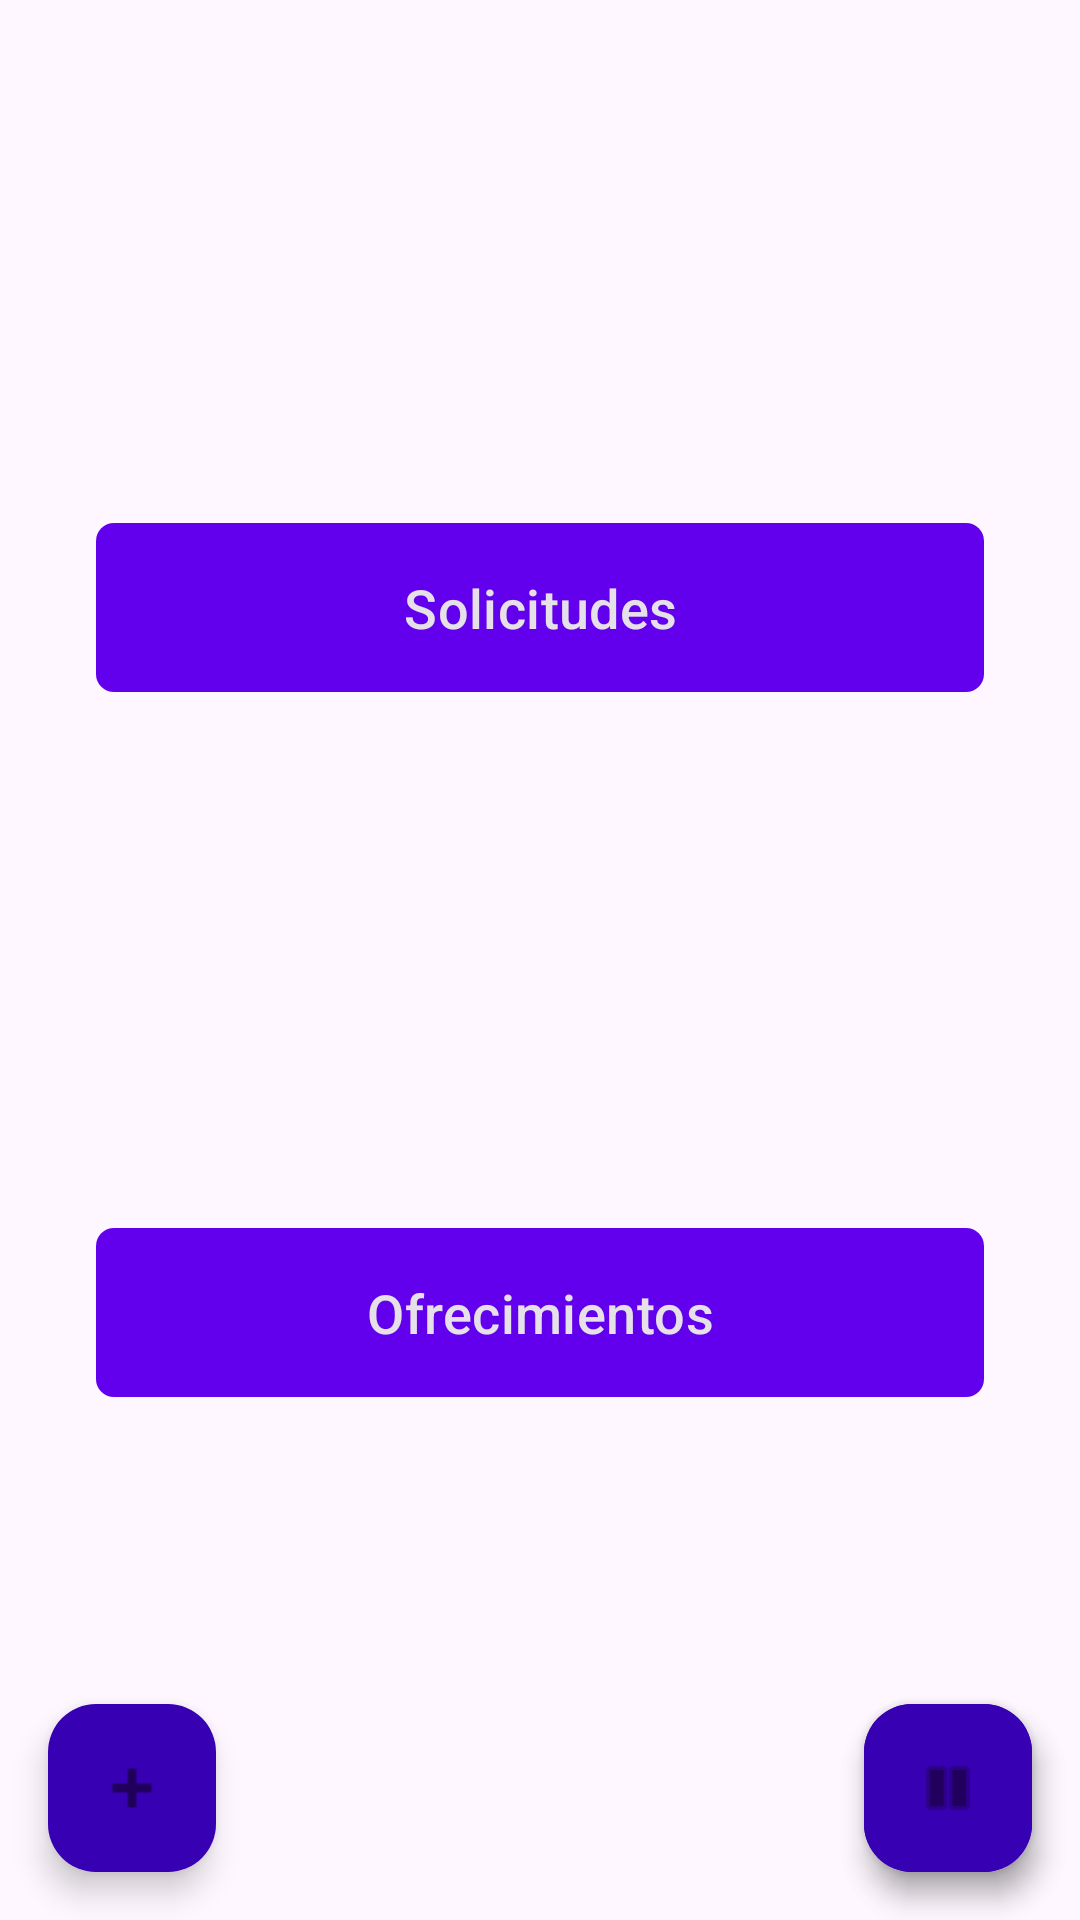

Icons on this 1080 × 1920 Android screen, each with the point to tap as (x,y):
add: (132,1788)
